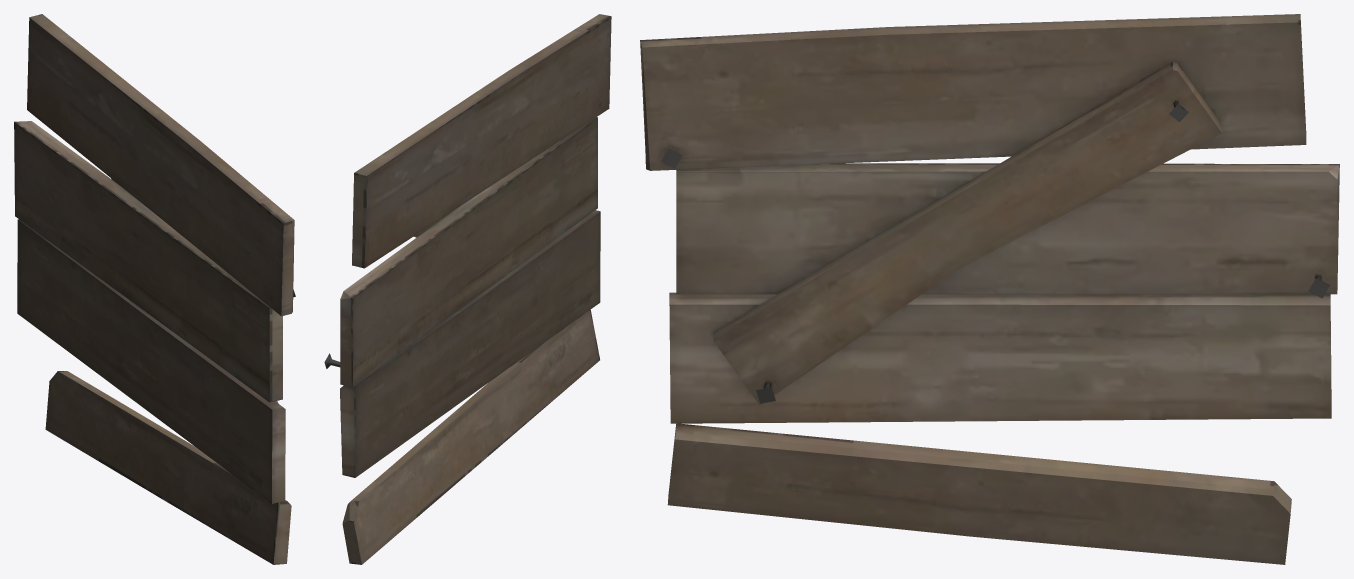
3 views of the same model, side by side, from view 1: azimuth 30°, elevation 25°; view 2: azimuth 150°, elevation 25°; view 3: azimuth 270°, elevation 25° (orthographic). The views are drawn at different scales.
Visible parts, largest first — view 1: body0_model0_lod0_mesh0; view 2: body0_model0_lod0_mesh0; view 3: body0_model0_lod0_mesh0.
Boxes of the visible parts, left/top/right/bottom form: body0_model0_lod0_mesh0: left=14, top=14, right=295, bottom=564; body0_model0_lod0_mesh0: left=324, top=14, right=611, bottom=564; body0_model0_lod0_mesh0: left=640, top=14, right=1339, bottom=564.
Bounding box in the file's own units: 15.87 × 132 × 156.
1 material, 1 textured.
